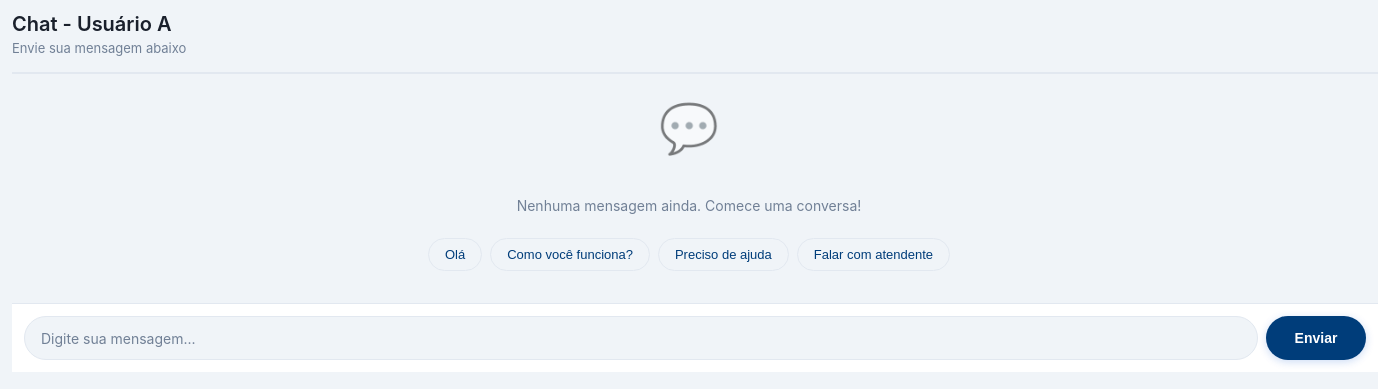
Test case: ChatScreen Component › envia mensagem válida
Digitar mensagem
Type "Olá" into the field with placeholder "Digite sua mensagem...".
click(641, 338); type("Olá")  # box [24,316,1258,360]
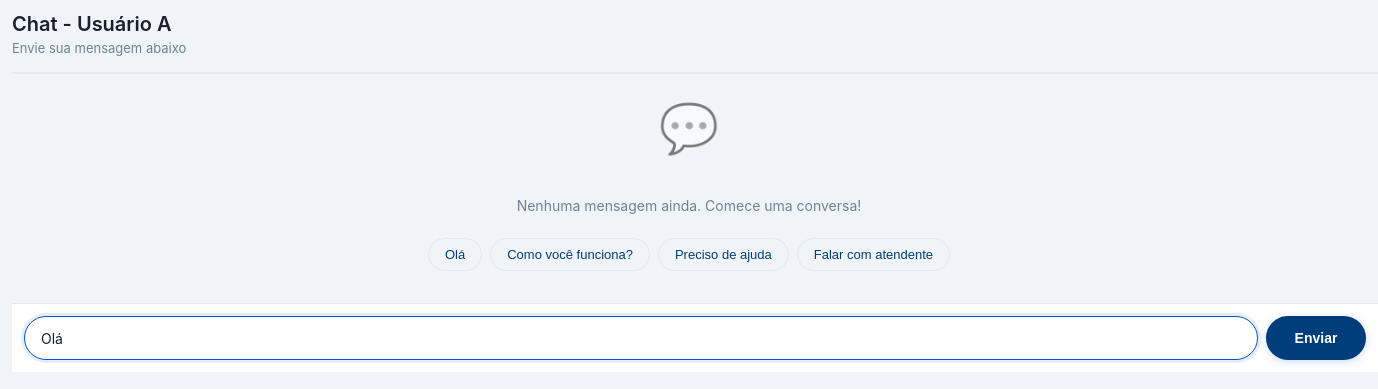
Click the button "Enviar".
click(1316, 338)  # box [1266,316,1366,360]
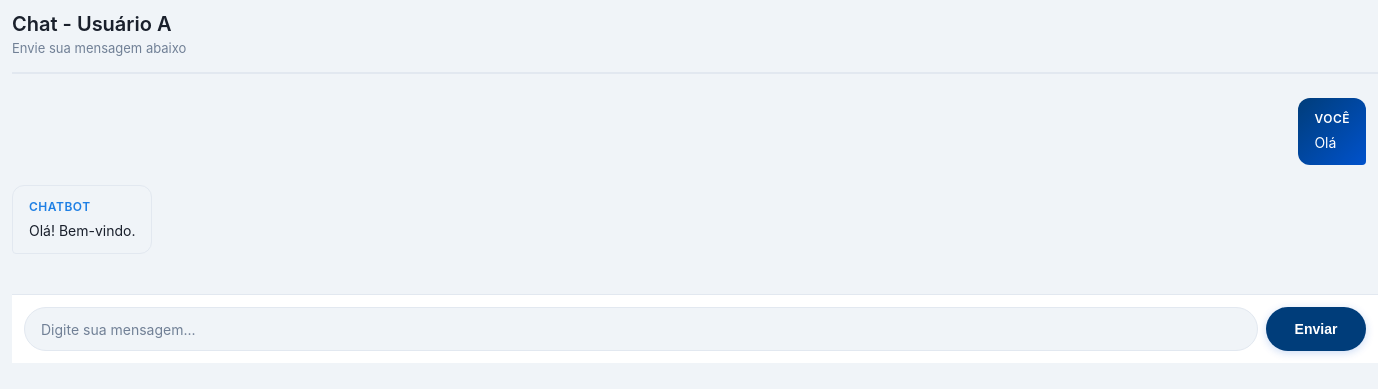
Expected: the text "Olá" is shown, [1314,134,1336,151]
Expected: the text "Olá! Bem-vindo." is shown, [29,220,136,241]
Expected: the field with placeholder "Digite sua mensagem..." is empty, [24,307,1258,351]
